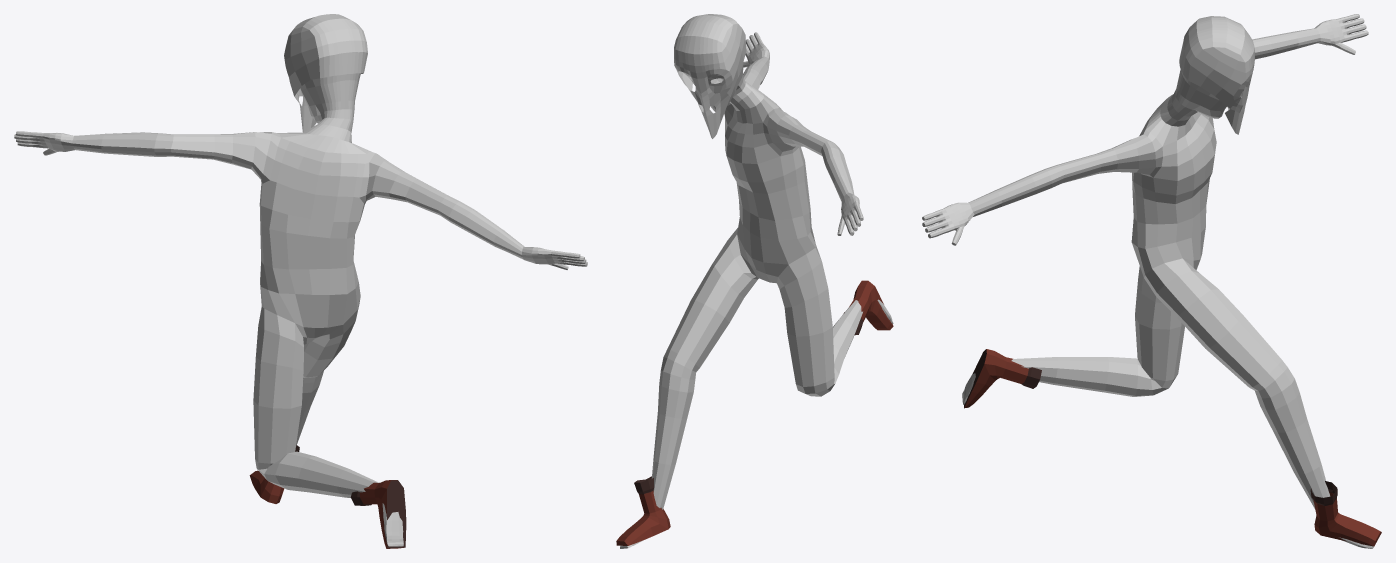
The model's file is saltoadelante_000119.obj.
The picture shows the model from 3 angles, left to right: view 1: azimuth 30°, elevation 25°; view 2: azimuth 150°, elevation 25°; view 3: azimuth 270°, elevation 25°; orthographic projection. The views are drawn at different scales.
Visible parts, largest first — view 1: Plane.002_Plane.001, Plane.004; view 2: Plane.002_Plane.001, Plane.003, Plane.004; view 3: Plane.002_Plane.001, Plane.003, Plane.004.
Part boxes in pixels (x1,y1,x2,y2): Plane.002_Plane.001: [14, 14, 587, 546]; Plane.004: [350, 480, 406, 548]; Plane.002_Plane.001: [620, 14, 893, 548]; Plane.003: [616, 476, 670, 545]; Plane.004: [843, 280, 893, 335]; Plane.002_Plane.001: [922, 14, 1373, 548]; Plane.003: [1310, 481, 1381, 546]; Plane.004: [964, 349, 1041, 408].
Size of the model in its own units: 4.44 by 6.39 by 5.14.
